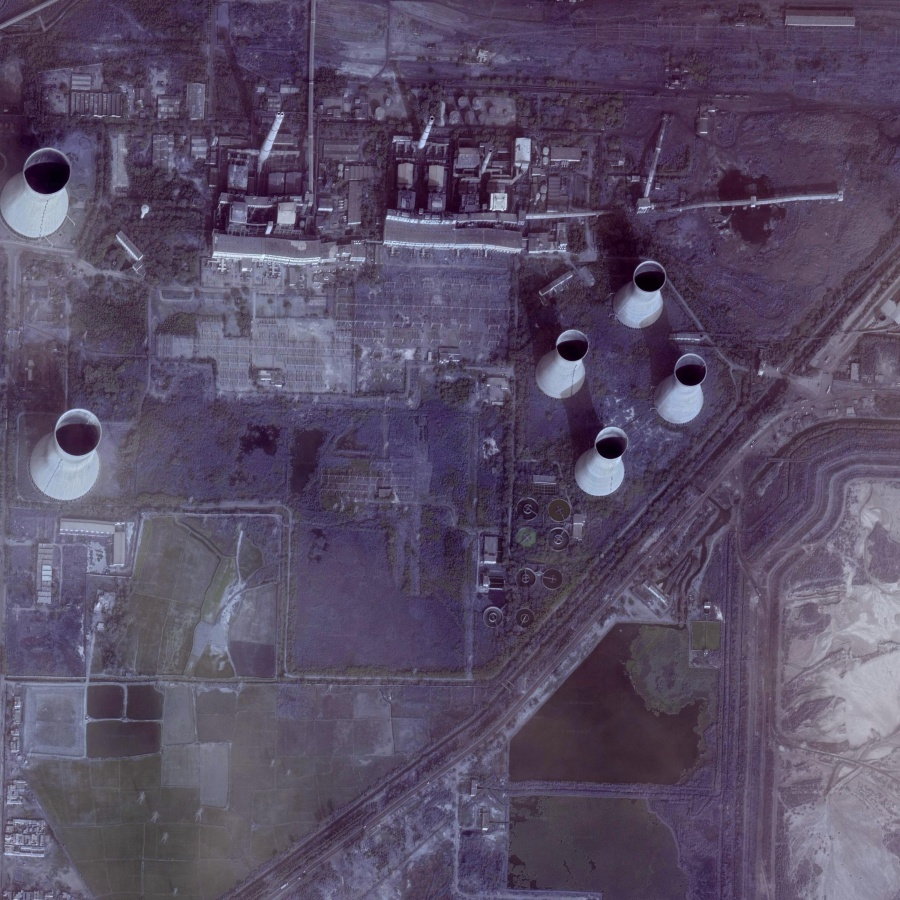PowerPlant: (212, 61, 706, 498), (10, 396, 254, 670)
